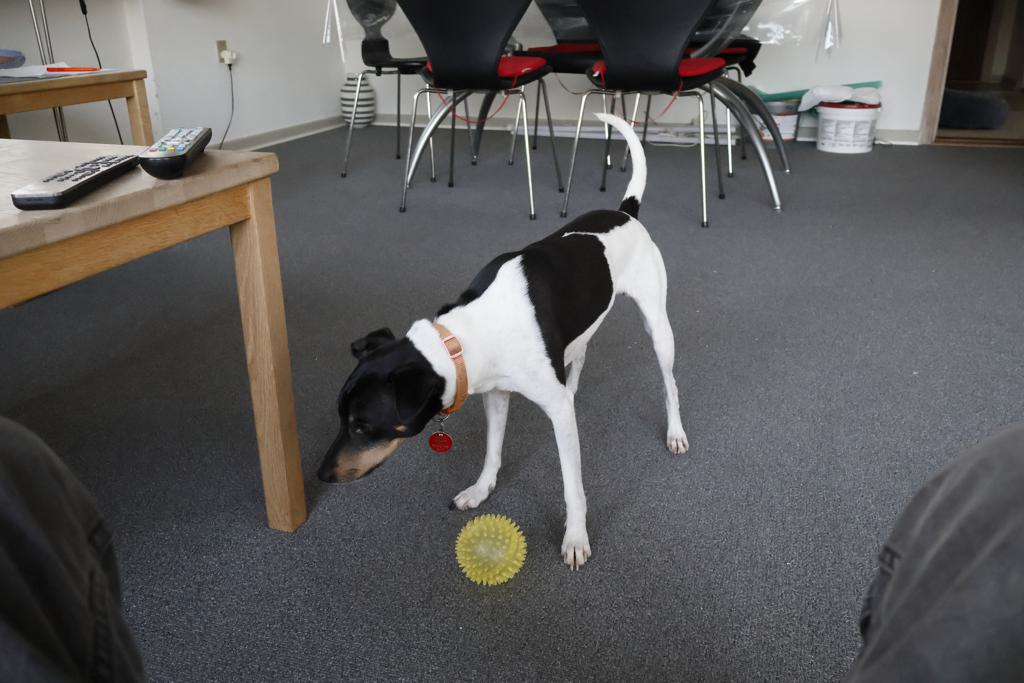Dog: (300, 106, 697, 578)
Humanoid: (0, 407, 1024, 683)
